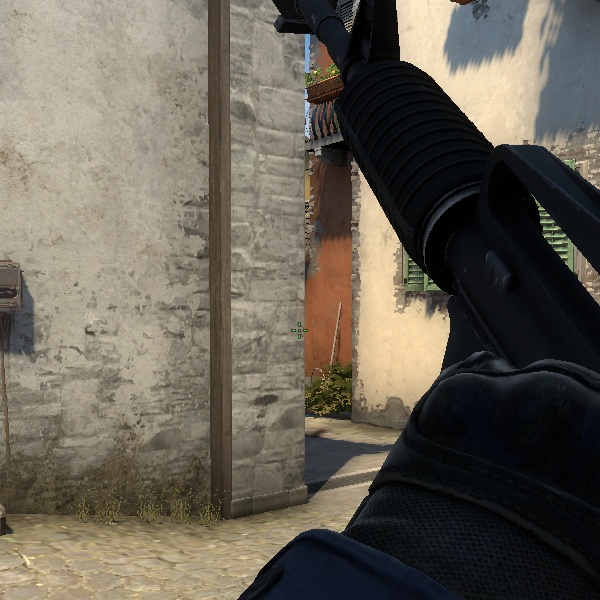t_body: (208, 1, 557, 528)
